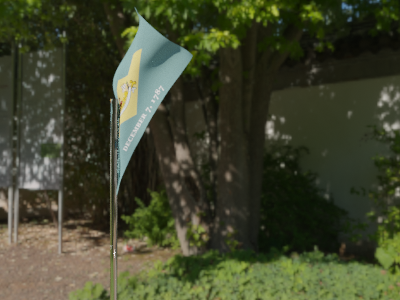Delaware flag: (117, 13, 194, 190)
